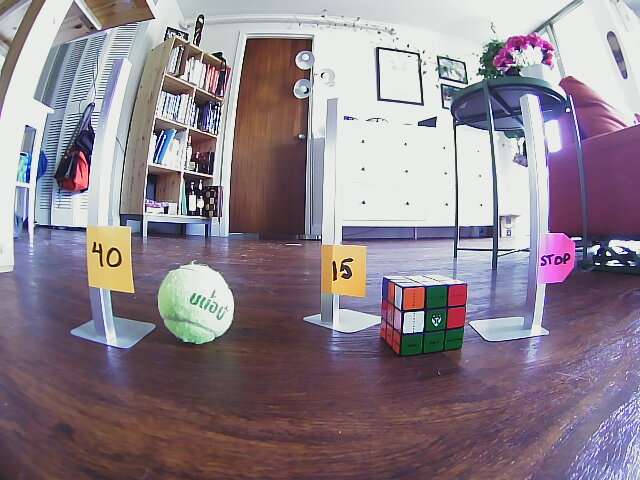15: (320, 243, 366, 296)
40: (87, 228, 132, 289)
ball: (158, 262, 235, 344)
cube: (383, 278, 466, 353)
stop: (538, 235, 574, 282)
